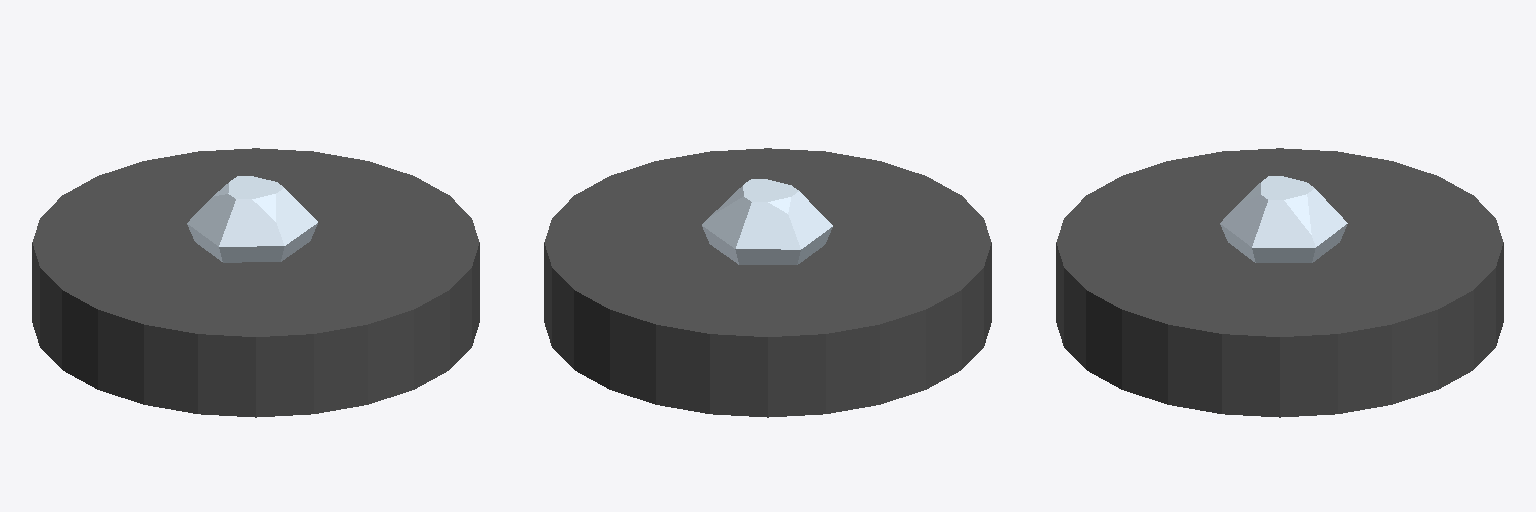
Rendered from gems_diamond_1.obj.
The picture shows the model from 3 angles: view 1: azimuth 30°, elevation 25°; view 2: azimuth 150°, elevation 25°; view 3: azimuth 270°, elevation 25°; orthographic projection.
Parts seen in each view (by area): view 1: mergedBlocks; view 2: mergedBlocks; view 3: mergedBlocks.
Part boxes in pixels (x1,y1,x2,y2): mergedBlocks: (32,148,479,417); mergedBlocks: (544,148,991,417); mergedBlocks: (1056,148,1503,417).
Bounding box in the file's own units: 1 × 0.3308 × 1.